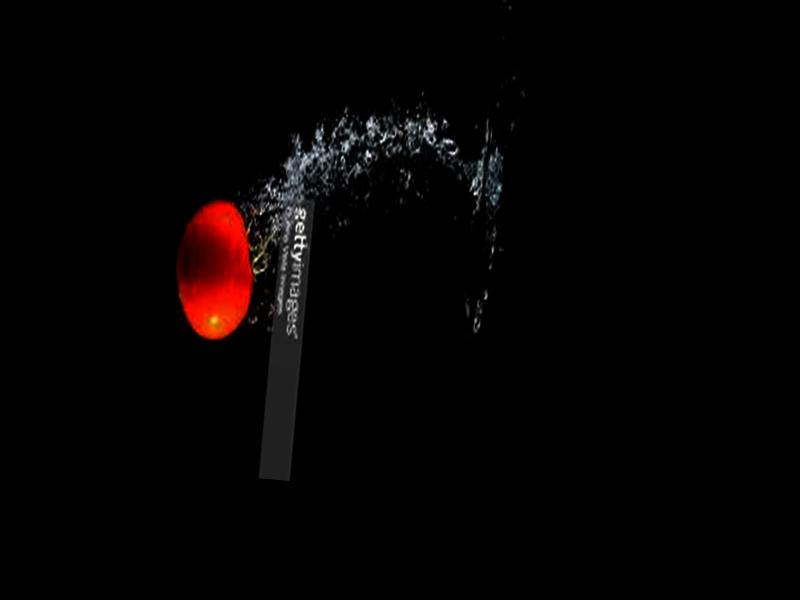Tomato: (173, 195, 260, 343)
